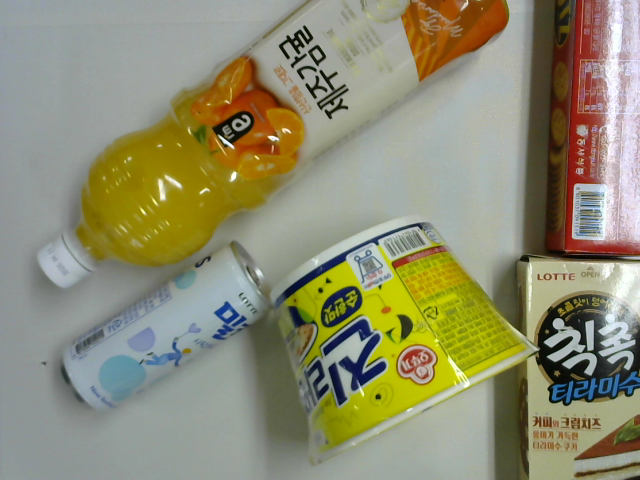Chicchok_Tiramisu: (516, 251, 639, 480)
Jeju_Tangerine_1.5L: (34, 1, 513, 294)
Jinlamyeon_Mild_Taste_Large_Cup: (268, 212, 542, 466)
Milkies_250ml: (55, 237, 276, 417)
Ritz_Cracker: (542, 1, 639, 259)
